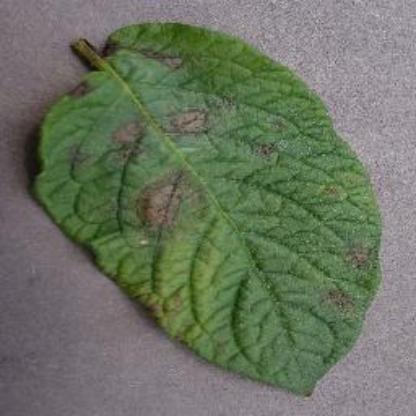Late-Blight: (28, 15, 390, 405)
